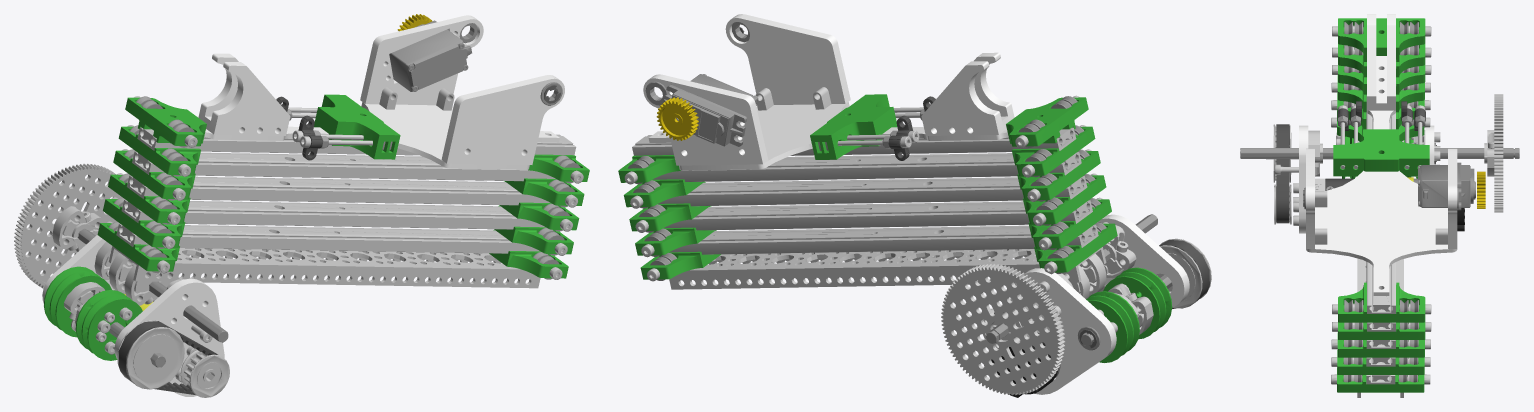
The model's file is 2901Robot_Arm.glb.
The picture shows the model from 3 angles, left to right: view 1: azimuth 30°, elevation 25°; view 2: azimuth 150°, elevation 25°; view 3: azimuth 270°, elevation 25°; orthographic projection. The views are drawn at different scales.
Parts seen in each view (by area): view 1: mesh; view 2: mesh; view 3: mesh.
Boxes of the visible parts, left/top/right/bottom form: mesh: left=14, top=14, right=589, bottom=397; mesh: left=618, top=14, right=1211, bottom=397; mesh: left=1240, top=14, right=1519, bottom=397.
Size of the model in its own units: 0.3489 by 0.1936 by 0.192.
Materials: 1 (1 with a texture image).
